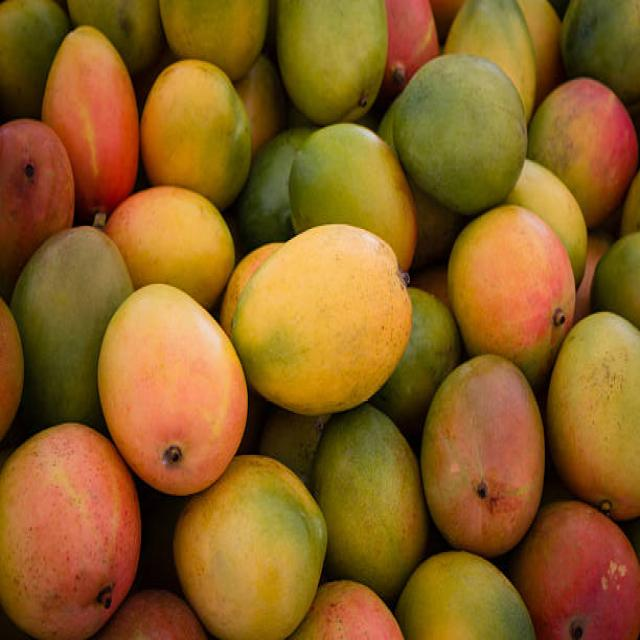mango: (231, 225, 411, 415), (98, 285, 248, 494), (0, 426, 141, 638), (174, 456, 328, 639), (421, 354, 545, 557), (10, 227, 134, 429), (310, 405, 428, 602), (448, 206, 575, 375), (394, 54, 526, 215), (41, 26, 139, 221), (289, 124, 418, 271), (546, 313, 640, 510), (511, 501, 640, 639), (528, 77, 639, 227), (140, 60, 251, 209), (105, 186, 235, 308), (276, 0, 388, 125), (371, 287, 461, 438), (0, 120, 74, 299), (395, 551, 535, 639), (444, 0, 536, 123), (505, 159, 588, 286), (159, 0, 268, 81)
